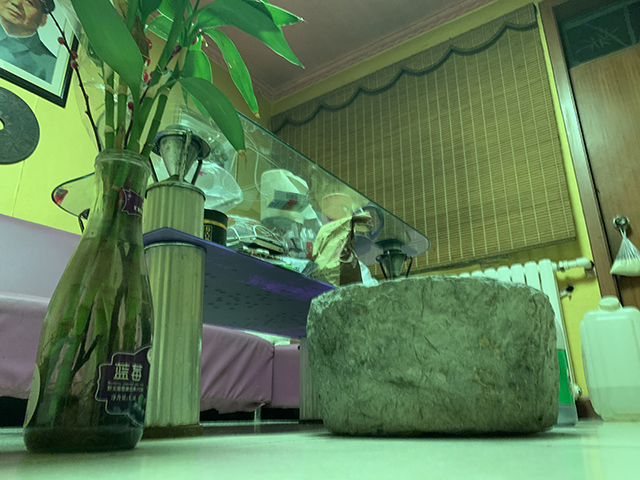table: (132, 82, 435, 432)
